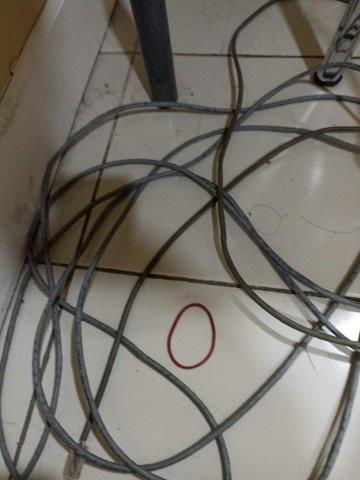karet: (167, 303, 216, 370)
